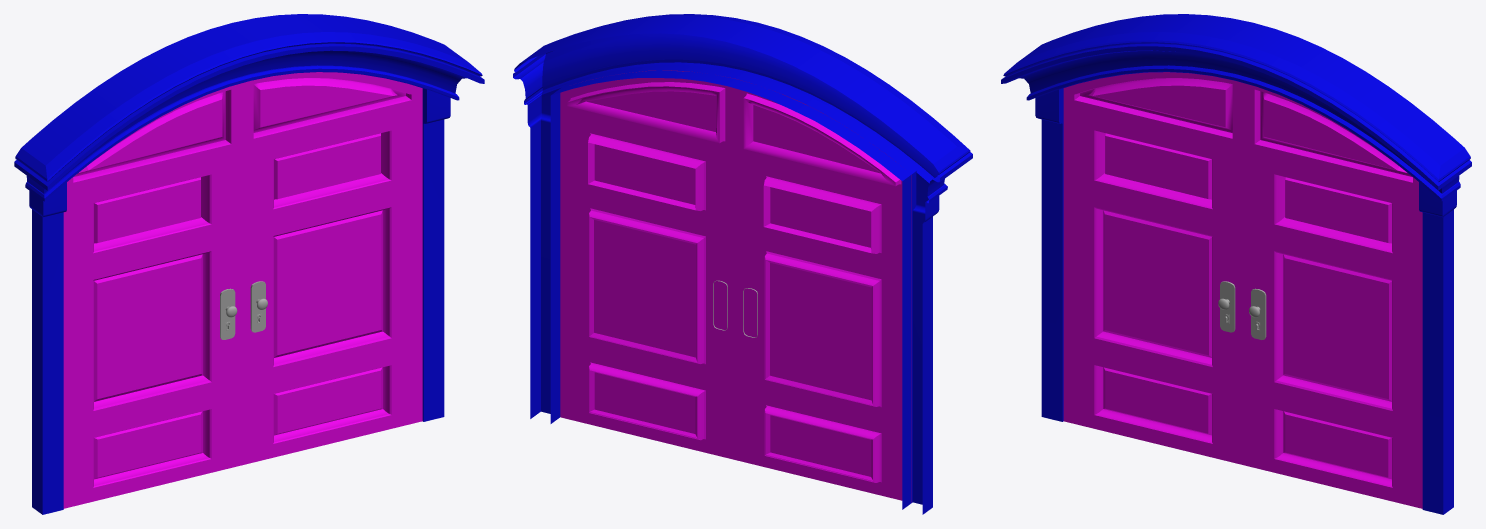
The model's file is BigDoor.fbx.
The picture shows the model from 3 angles, left to right: view 1: azimuth 30°, elevation 25°; view 2: azimuth 150°, elevation 25°; view 3: azimuth 330°, elevation 25°; orthographic projection. The views are drawn at different scales.
Visible parts, largest first — view 1: polySurface6, DoorHold, polySurface8, polySurface7; view 2: polySurface6, DoorHold; view 3: polySurface6, DoorHold, polySurface8, polySurface7.
Part boxes in pixels (x1=…): polySurface6: x1=63, y1=72, x2=422, y2=508; DoorHold: x1=14, y1=14, x2=484, y2=514; polySurface8: x1=250, y1=281, x2=265, y2=332; polySurface7: x1=220, y1=288, x2=235, y2=339; polySurface6: x1=560, y1=70, x2=911, y2=502; DoorHold: x1=513, y1=14, x2=972, y2=514; polySurface6: x1=1063, y1=72, x2=1422, y2=508; DoorHold: x1=1001, y1=14, x2=1471, y2=514; polySurface8: x1=1251, y1=288, x2=1266, y2=339; polySurface7: x1=1220, y1=281, x2=1235, y2=332.
Bounding box in the file's own units: 3.15 × 2.99 × 0.4173.
